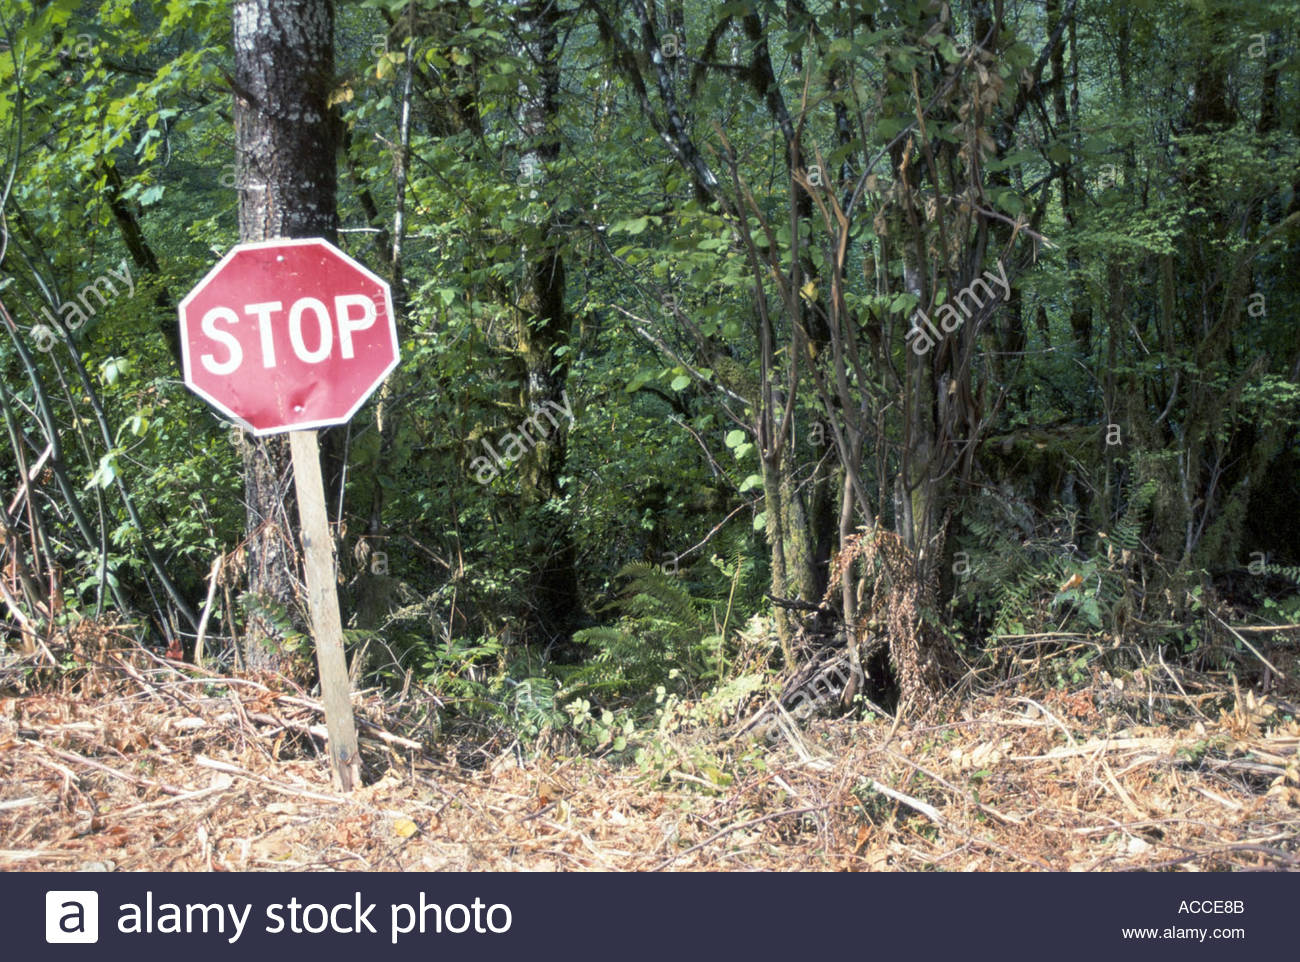stop: (186, 240, 407, 432), (184, 240, 408, 390), (182, 239, 324, 435)
